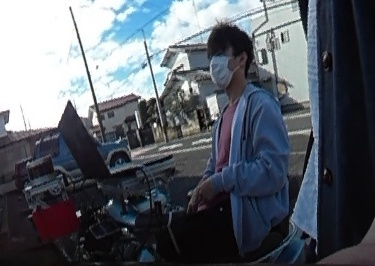person: (149, 22, 293, 260)
